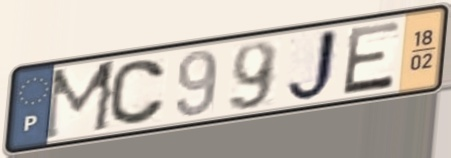9: (225, 38, 284, 112), (173, 48, 219, 120)
C: (107, 58, 168, 128)
E: (340, 18, 404, 98)
J: (283, 25, 341, 105)
M: (40, 57, 121, 144)
